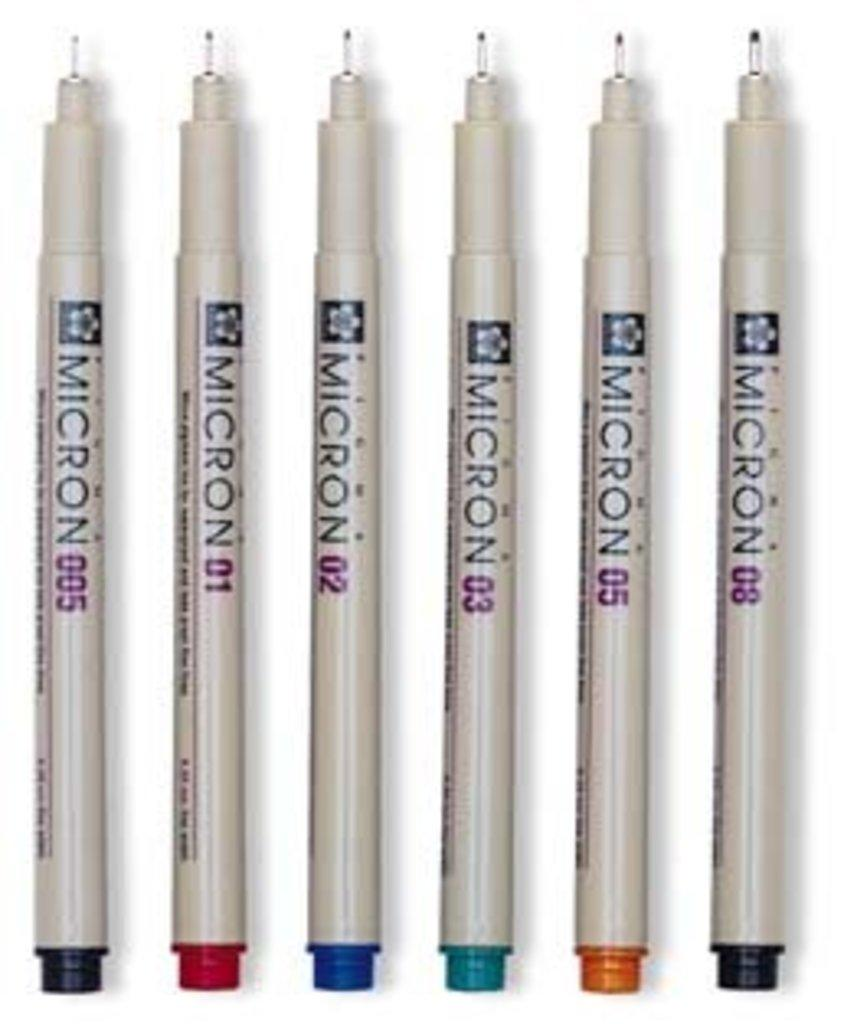pen: (703, 20, 801, 1001), (435, 20, 530, 991), (572, 23, 664, 998), (160, 10, 249, 998), (298, 20, 386, 1004), (26, 33, 105, 991)
